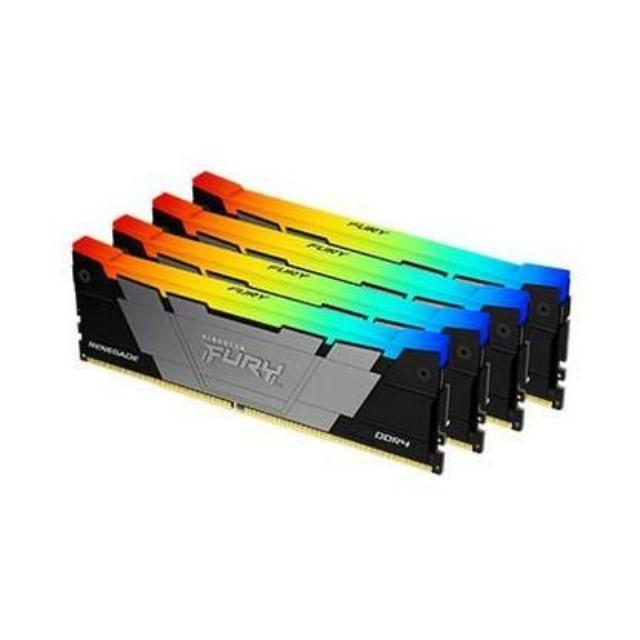RAM: (67, 157, 575, 480)
